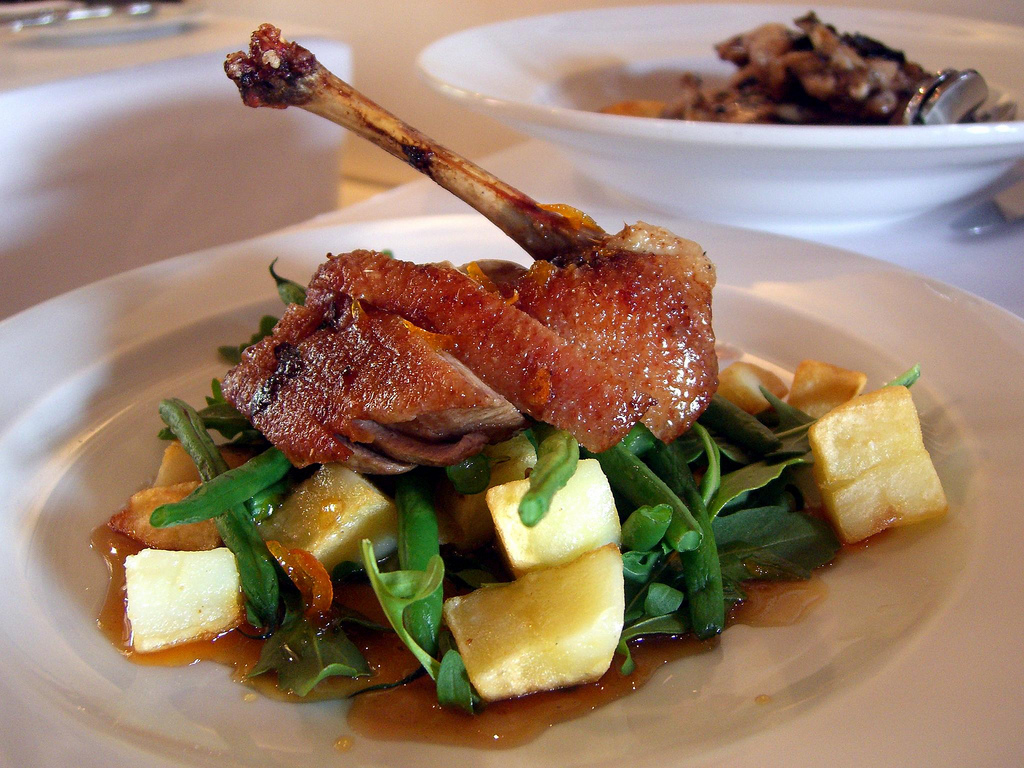boiled potatoes: (475, 473, 619, 704)
